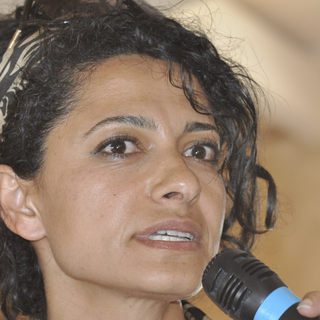eye: (87, 131, 151, 164), (177, 136, 222, 166)
